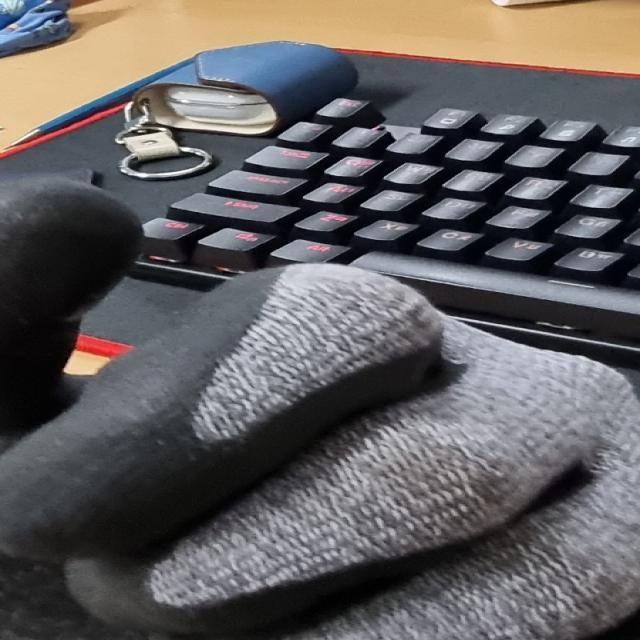Gloves: (0, 205, 634, 640)
